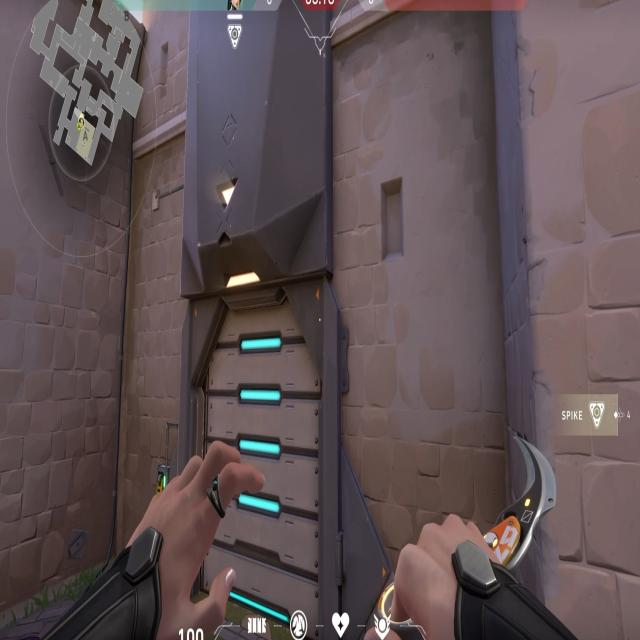A_Door: (181, 287, 340, 633)
